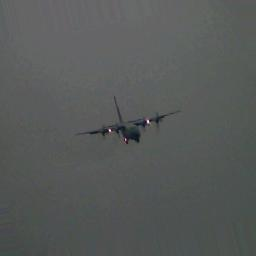Airplane: (72, 95, 181, 144)
